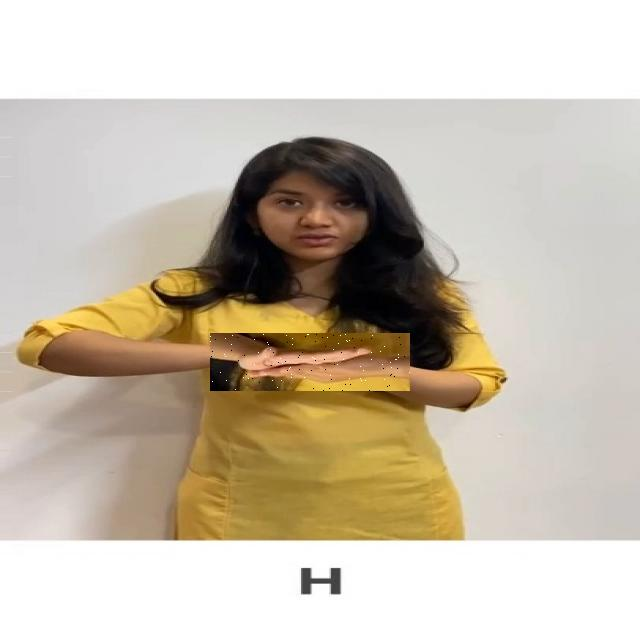H: (210, 333, 410, 391)
